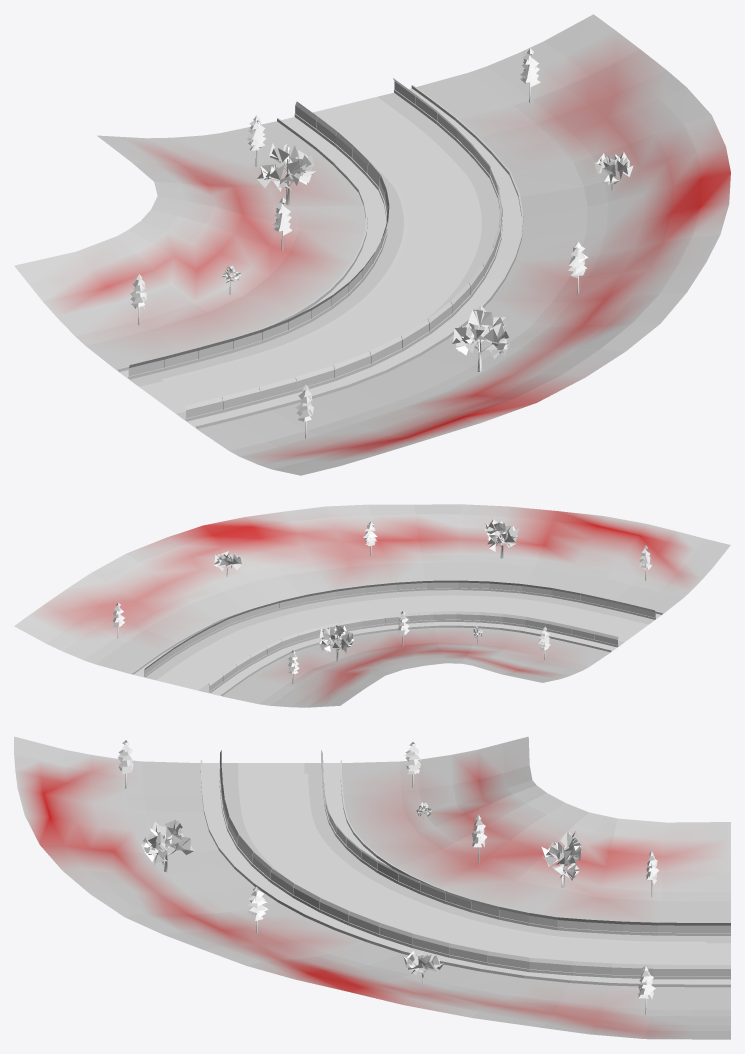
3 views of the same model, one above another, from view 1: azimuth 30°, elevation 25°; view 2: azimuth 150°, elevation 25°; view 3: azimuth 270°, elevation 25° (orthographic). The views are drawn at different scales.
Parts seen in each view (by area): view 1: Grass, Road, Track, Wirefence, Trees; view 2: Grass, Road, Wirefence, Track, Trees; view 3: Grass, Road, Track, Wirefence, Trees.
Part boxes in pixels (x1,y1,x2,y2): Grass: [14, 14, 730, 475]; Road: [140, 97, 480, 413]; Track: [118, 78, 523, 428]; Wirefence: [128, 78, 502, 418]; Trees: [130, 48, 633, 438]; Grass: [14, 504, 730, 707]; Road: [157, 595, 647, 690]; Wirefence: [145, 580, 655, 690]; Track: [132, 580, 662, 695]; Trees: [113, 519, 651, 683]; Grass: [14, 736, 730, 1039]; Road: [239, 763, 730, 964]; Track: [200, 760, 730, 987]; Wirefence: [220, 750, 730, 976]; Trees: [118, 739, 658, 1014].
Size of what is drawn, in the model's own units: 19500 by 1815 by 19500.
